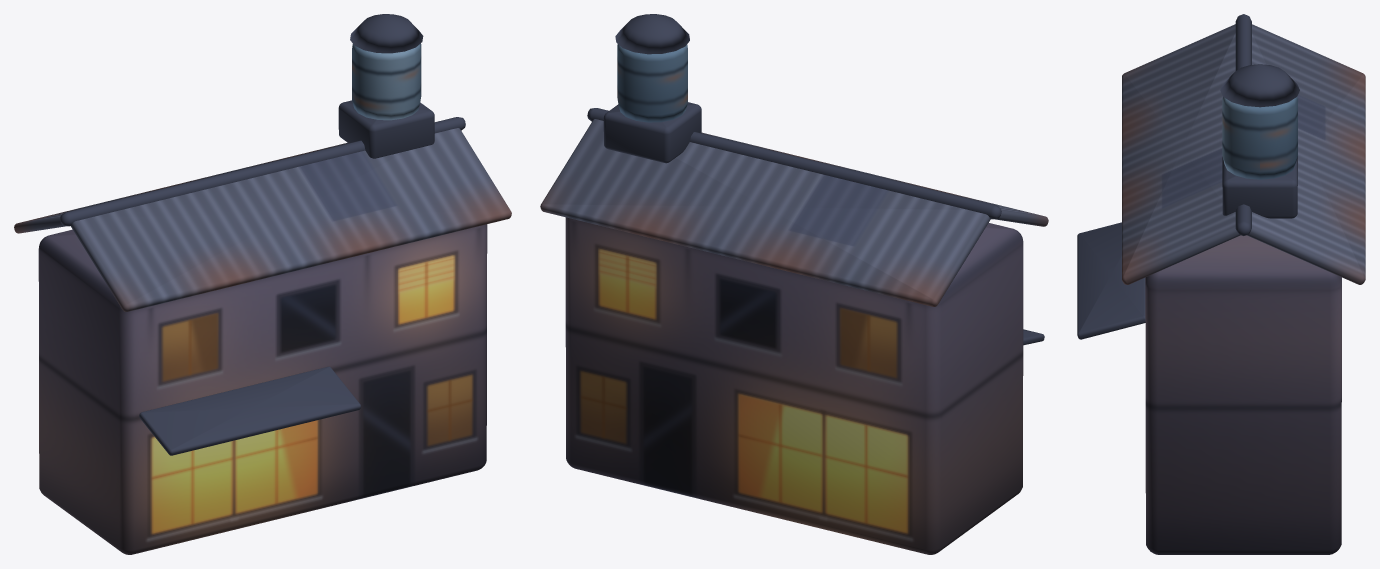
The model's file is zack_row.glb.
3 views of the same model, side by side, from view 1: azimuth 30°, elevation 25°; view 2: azimuth 150°, elevation 25°; view 3: azimuth 270°, elevation 25° (orthographic). The views are drawn at different scales.
Parts seen in each view (by area): view 1: block; view 2: block; view 3: block.
Boxes of the visible parts, x1,y1,x2,y2 form: block: [14, 14, 511, 554]; block: [540, 14, 1048, 554]; block: [1077, 14, 1365, 554].
Bounding box in the file's own units: 3.08 × 3.14 × 1.76.
1 material, 1 textured.
